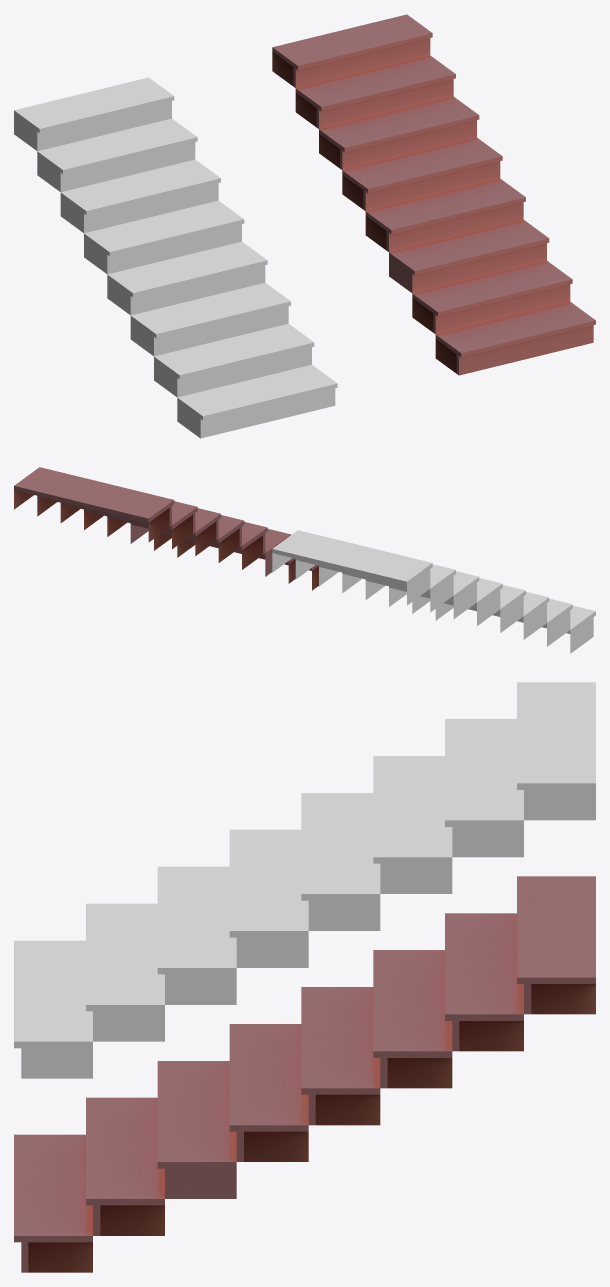
3 views of the same model, one above another, from view 1: azimuth 30°, elevation 25°; view 2: azimuth 150°, elevation 25°; view 3: azimuth 270°, elevation 25° (orthographic). The views are drawn at different scales.
Parts seen in each view (by area): view 1: Stairs.001, Stairs; view 2: Stairs, Stairs.001; view 3: Stairs, Stairs.001.
Boxes of the visible parts, box(x1,y1,x2,y2) form: Stairs.001: box(272, 14, 595, 375); Stairs: box(14, 77, 337, 438); Stairs: box(272, 530, 595, 653); Stairs.001: box(14, 467, 318, 590); Stairs: box(14, 682, 595, 1078); Stairs.001: box(14, 876, 595, 1272).
Bounding box in the file's own units: 292 × 136 × 243.
2 materials, 1 textured.
